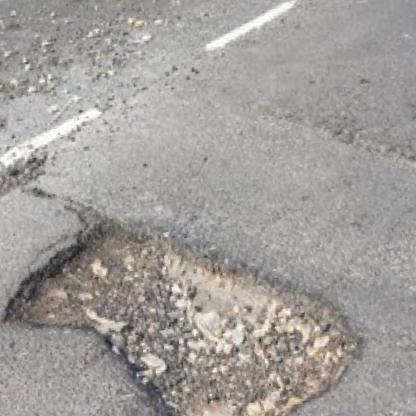pothole: (0, 168, 374, 416)
